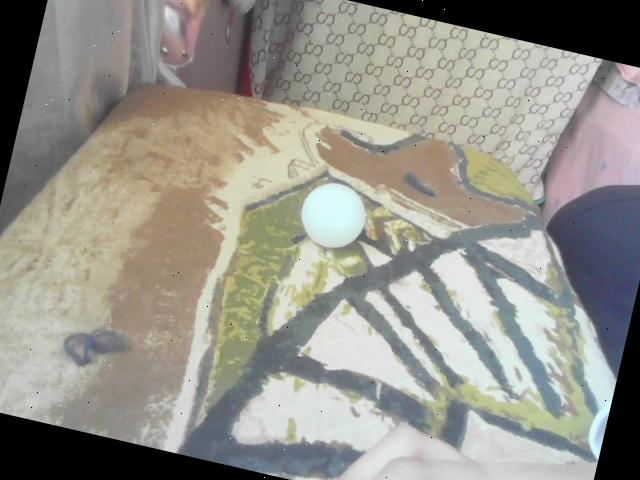ball: (296, 180, 370, 252)
